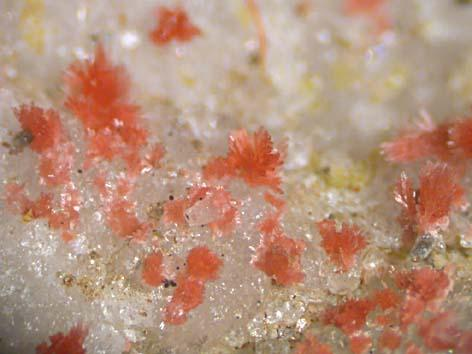erythrite: (163, 129, 305, 286), (63, 45, 164, 240), (324, 268, 472, 353), (385, 118, 472, 240), (164, 247, 222, 326), (5, 185, 79, 230), (318, 221, 369, 272), (16, 106, 64, 154), (150, 7, 202, 44), (36, 325, 89, 354), (143, 251, 164, 286)
